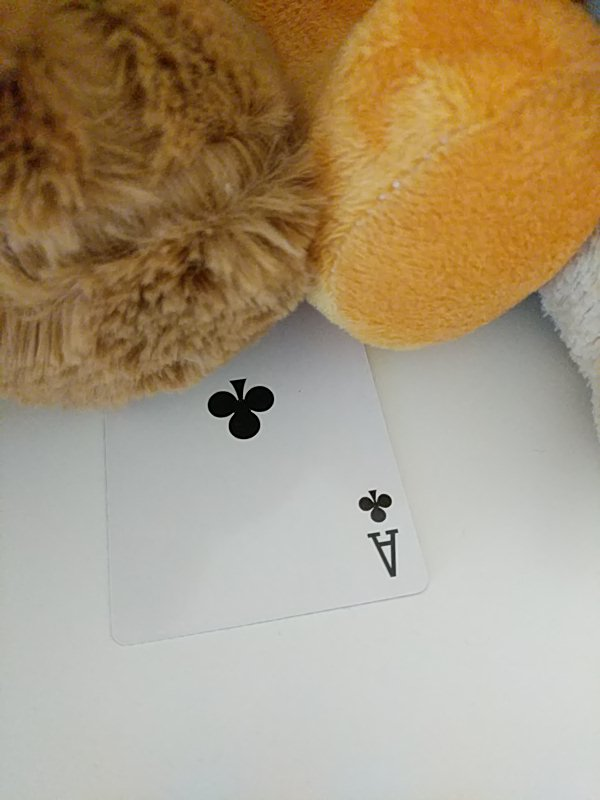Clubs: (103, 330, 431, 649)
